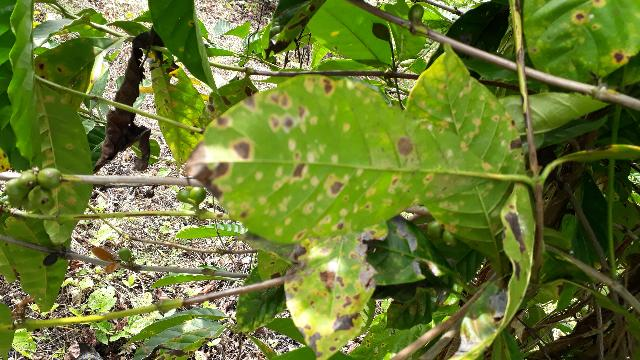rust_level_4: (152, 118, 456, 280)
